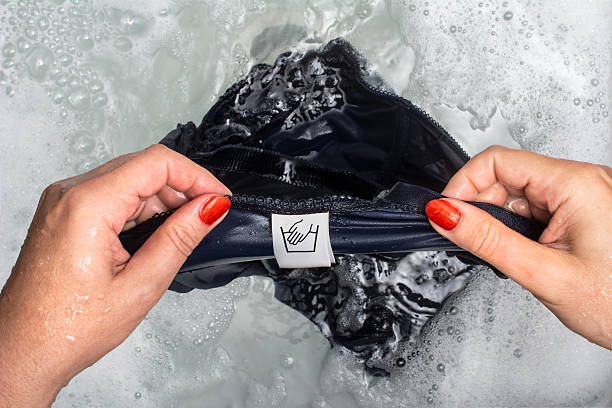ER_hand_wash: (276, 217, 323, 260)
